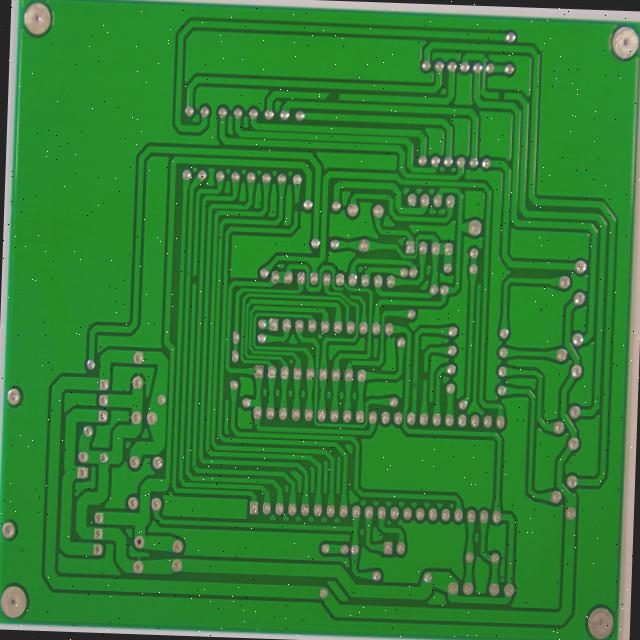open_circuit: (300, 98, 323, 112), (404, 405, 415, 423), (159, 297, 168, 315), (319, 316, 331, 329), (485, 98, 498, 110)
